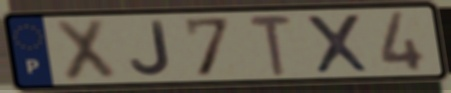4: (377, 9, 429, 74)
7: (183, 15, 236, 79)
J: (127, 19, 174, 78)
T: (245, 13, 296, 78)
X: (302, 12, 375, 76), (51, 17, 120, 83)
